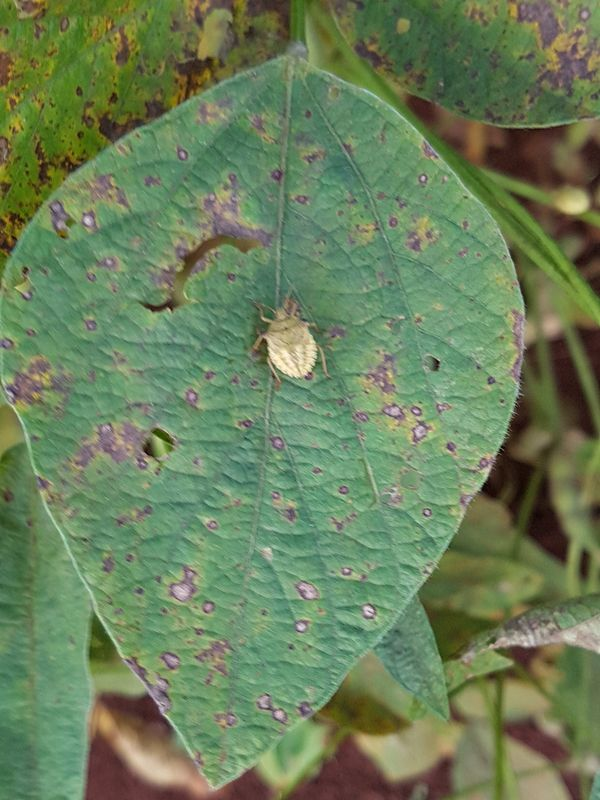Euschistus_heros_ninfa: (232, 278, 341, 400)
